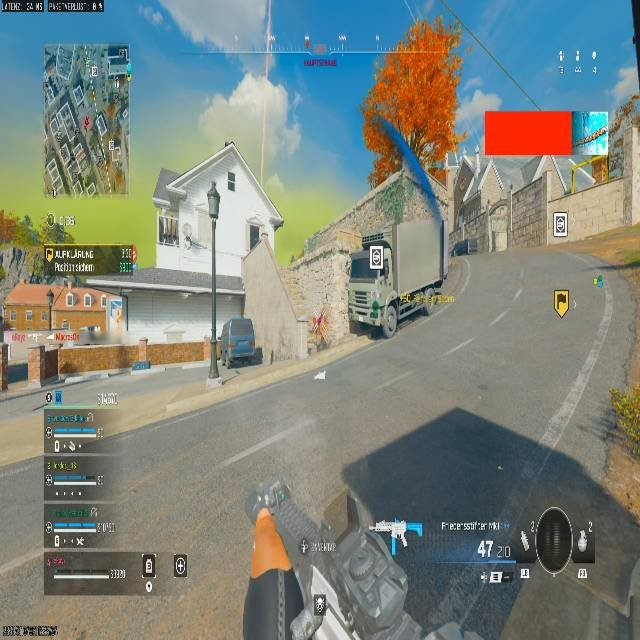player: (370, 299, 380, 320)
